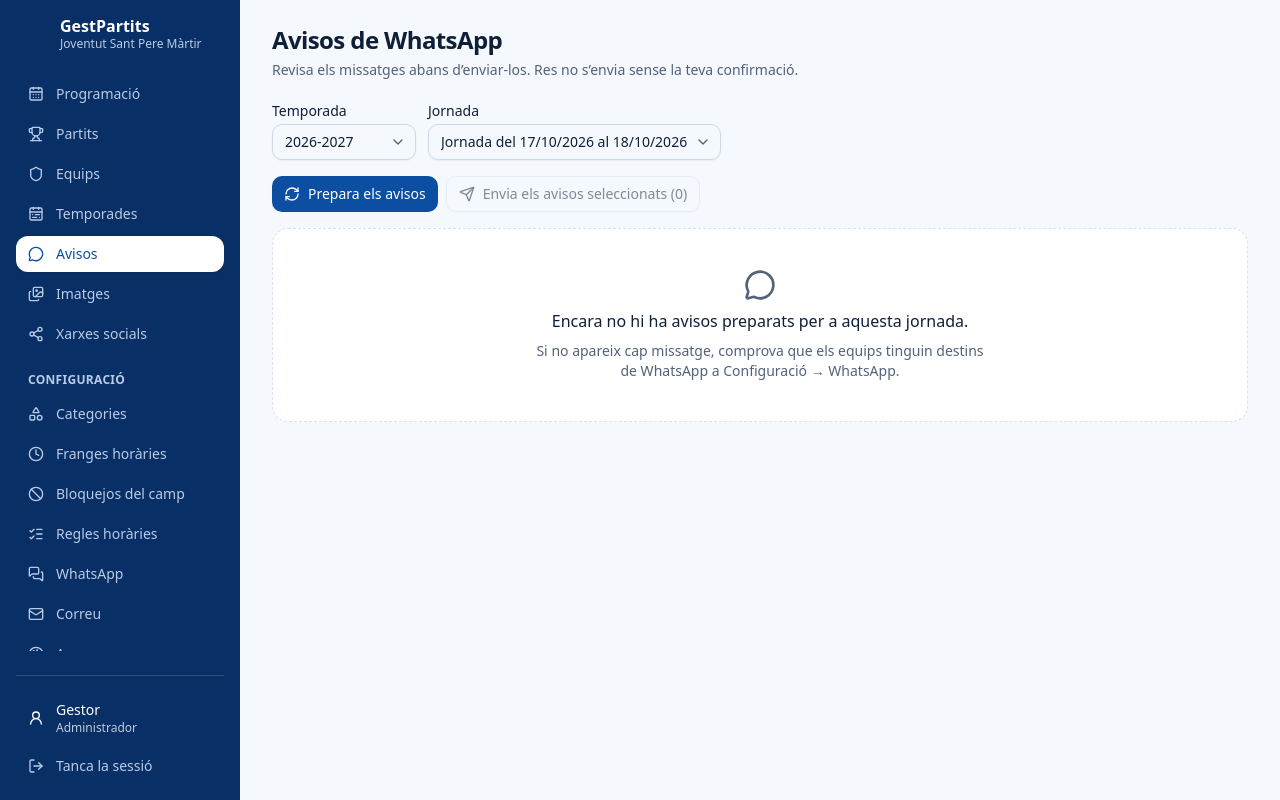
it: avisos de WhatsApp › prepara els avisos sense enviar-ne cap i ofereix les accions manuals
The width and height of the screenshot is (1280, 800).
Click the button "Prepara els avisos" at point(355, 194), box [272, 176, 438, 212]
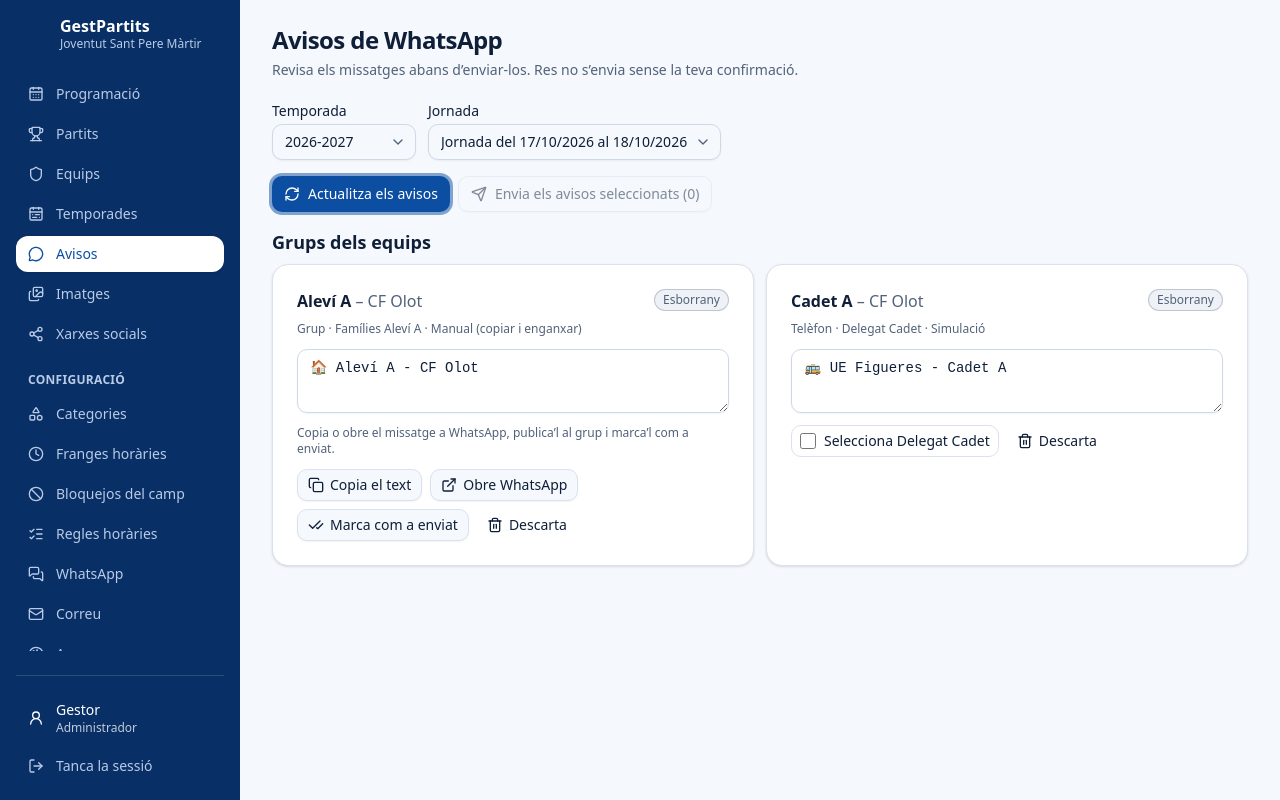
Expected: the button "Copia el text" is shown, [297, 469, 422, 501]
Expected: the button "Marca com a enviat" is shown, [297, 509, 469, 541]
